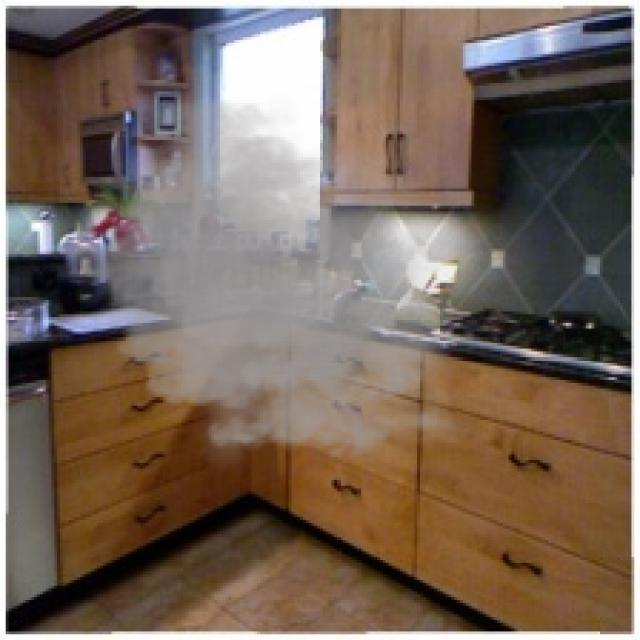Smoke: (66, 86, 488, 477)
